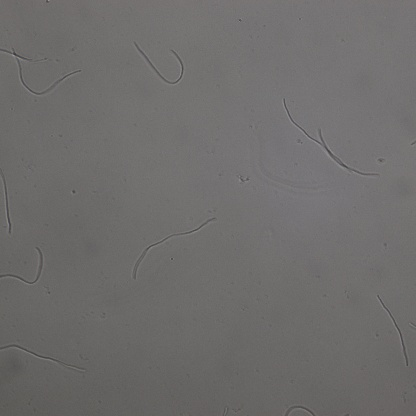Sensitive: (283, 99, 380, 177), (133, 217, 215, 279), (1, 46, 82, 95), (1, 343, 87, 373), (377, 295, 409, 368), (133, 41, 185, 85), (1, 246, 44, 285), (1, 171, 13, 234)
